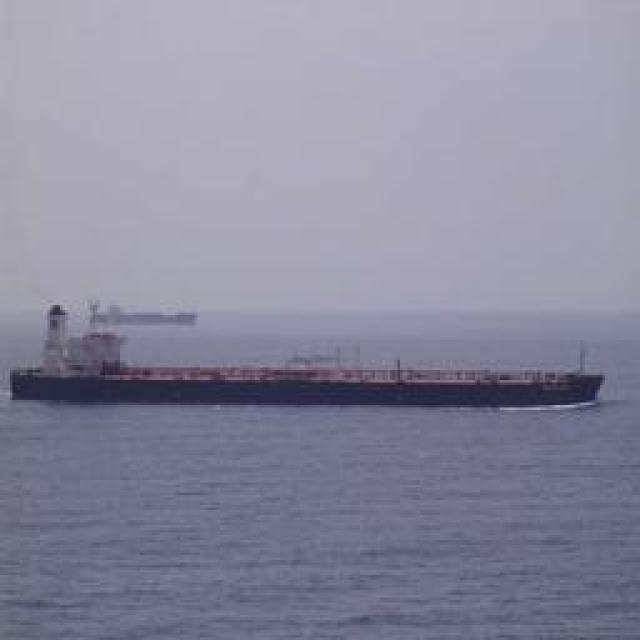Ship: (1, 349, 621, 409)
